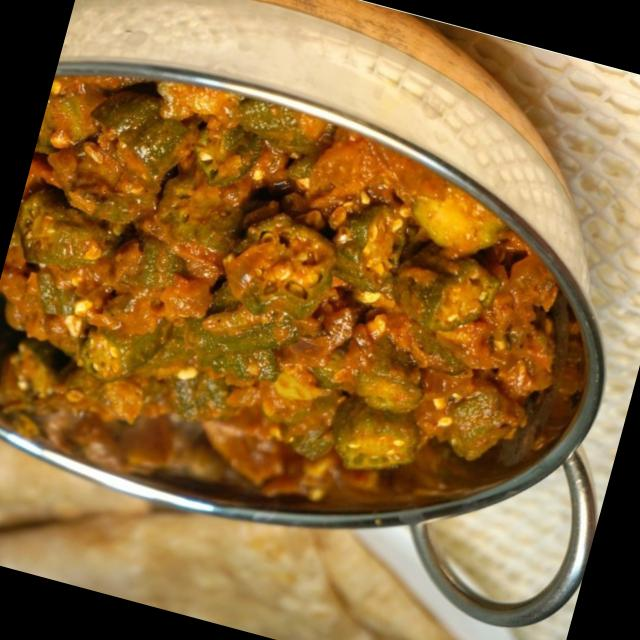BhindiMasala: (0, 45, 603, 537)
